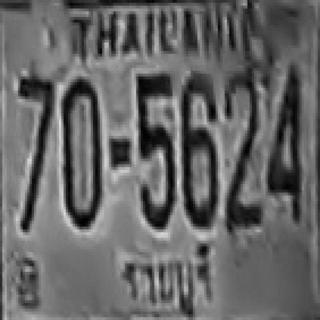N00: (62, 76, 103, 226)
N04: (266, 64, 300, 222)
N06: (180, 71, 217, 224)
P52: (116, 243, 221, 319)
